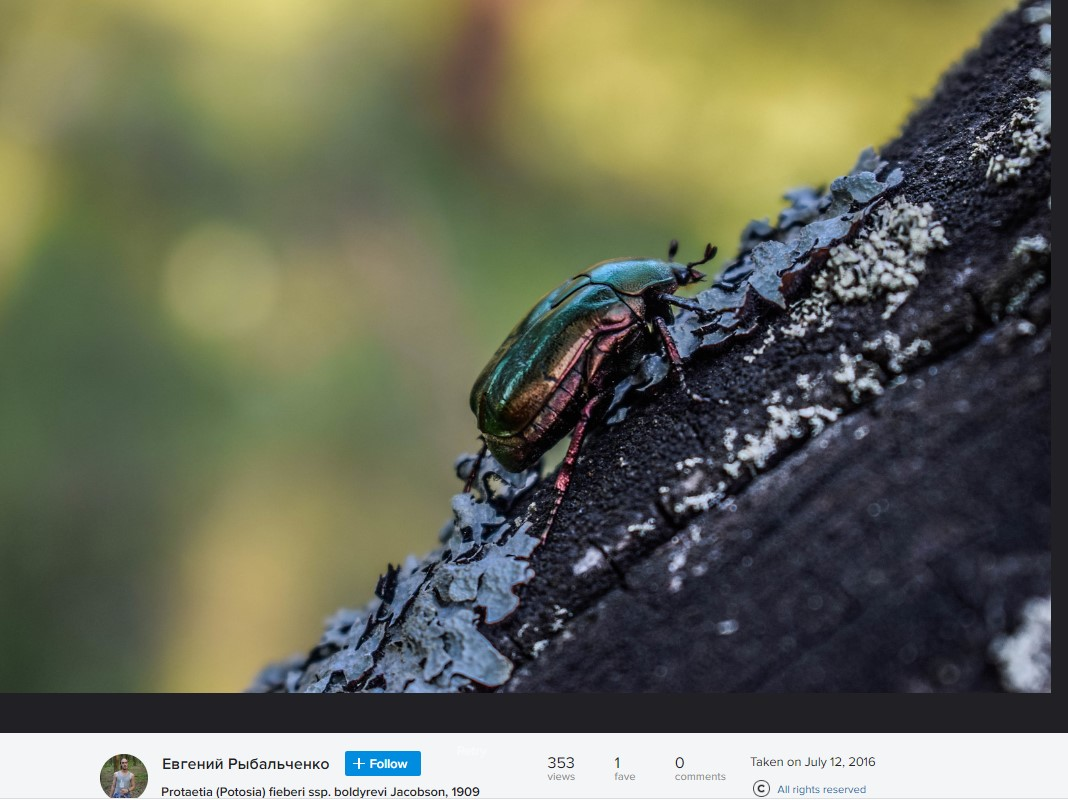Protaetia_fieberi: (461, 236, 735, 552)
